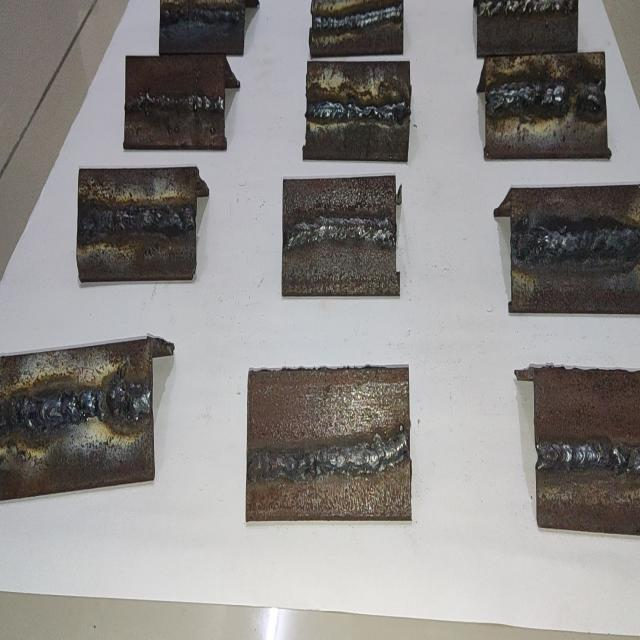Bad Weld: (0, 383, 150, 437), (510, 225, 639, 260), (487, 84, 606, 116), (126, 90, 224, 110)
Defect: (19, 389, 154, 430), (512, 215, 550, 269), (589, 217, 619, 267), (558, 76, 592, 120), (202, 87, 224, 115)
Good Weld: (247, 432, 409, 479), (284, 215, 394, 253), (78, 201, 193, 234), (541, 440, 640, 470), (307, 95, 410, 123), (313, 3, 402, 34), (480, 0, 572, 19), (162, 8, 244, 26)
